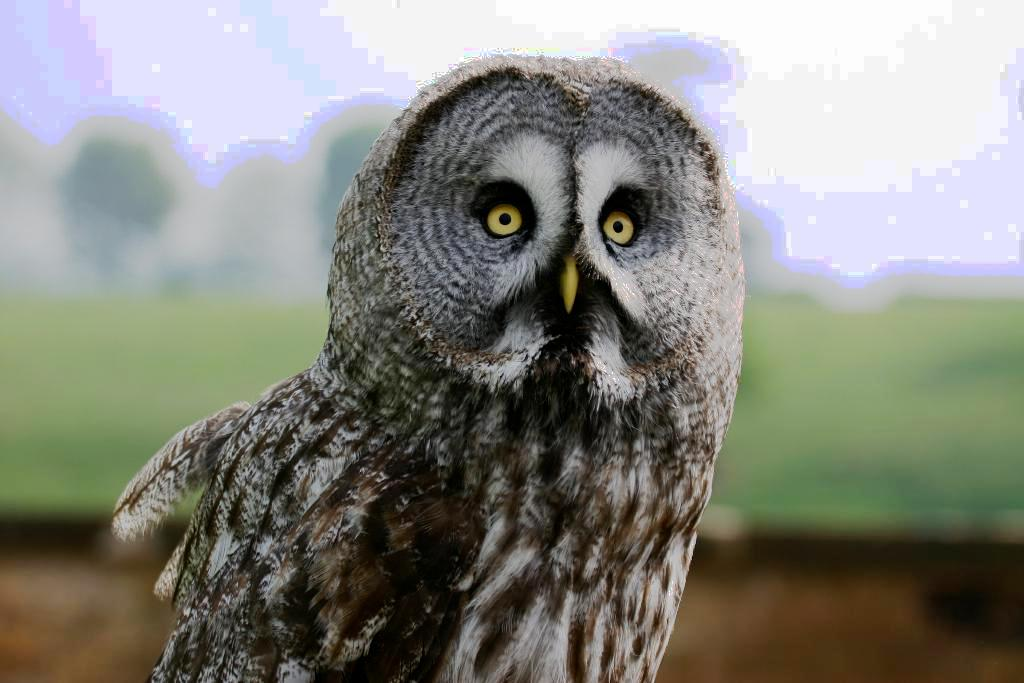Owl: (114, 55, 744, 682)
